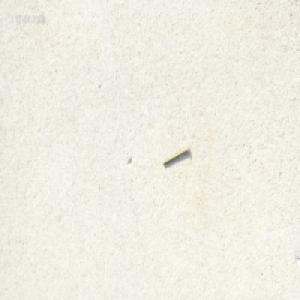Bolt: (161, 144, 188, 166)
